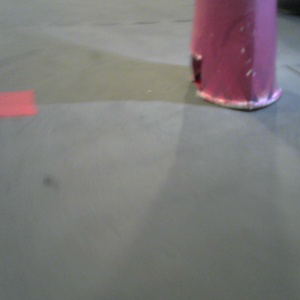right: (185, 1, 290, 109), (184, 1, 288, 109)
